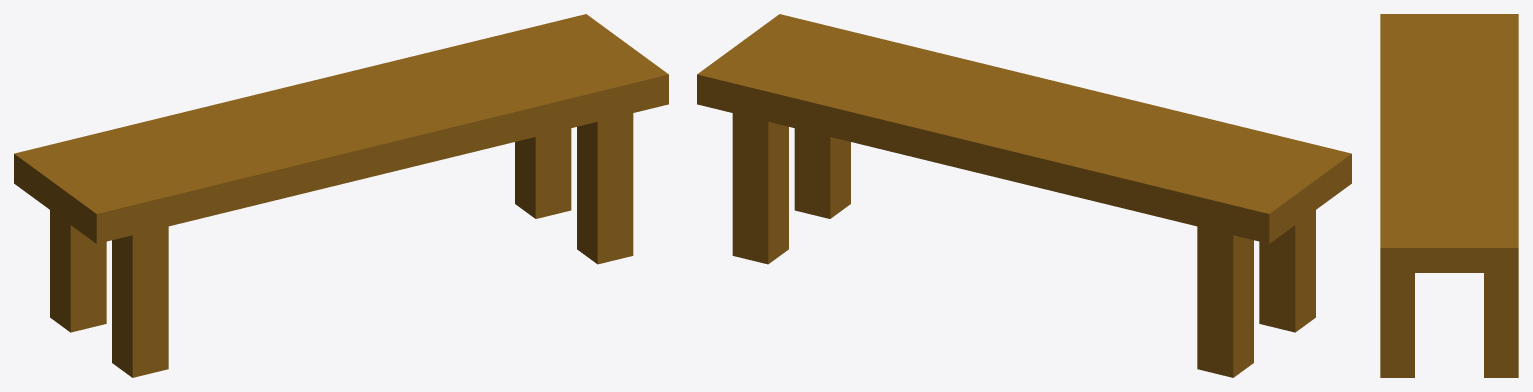
The model's file is bench.glb.
3 renders of one model, left to right at view 1: azimuth 30°, elevation 25°; view 2: azimuth 150°, elevation 25°; view 3: azimuth 270°, elevation 25°, orthographic. The views are drawn at different scales.
Visible parts, largest first — view 1: Cube; view 2: Cube; view 3: Cube.
Boxes of the visible parts, <box> form: Cube: <box>14,14,668,377</box>; Cube: <box>697,14,1351,377</box>; Cube: <box>1380,14,1518,377</box>.
Bounding box in the file's own units: 8 × 2.31 × 2.
